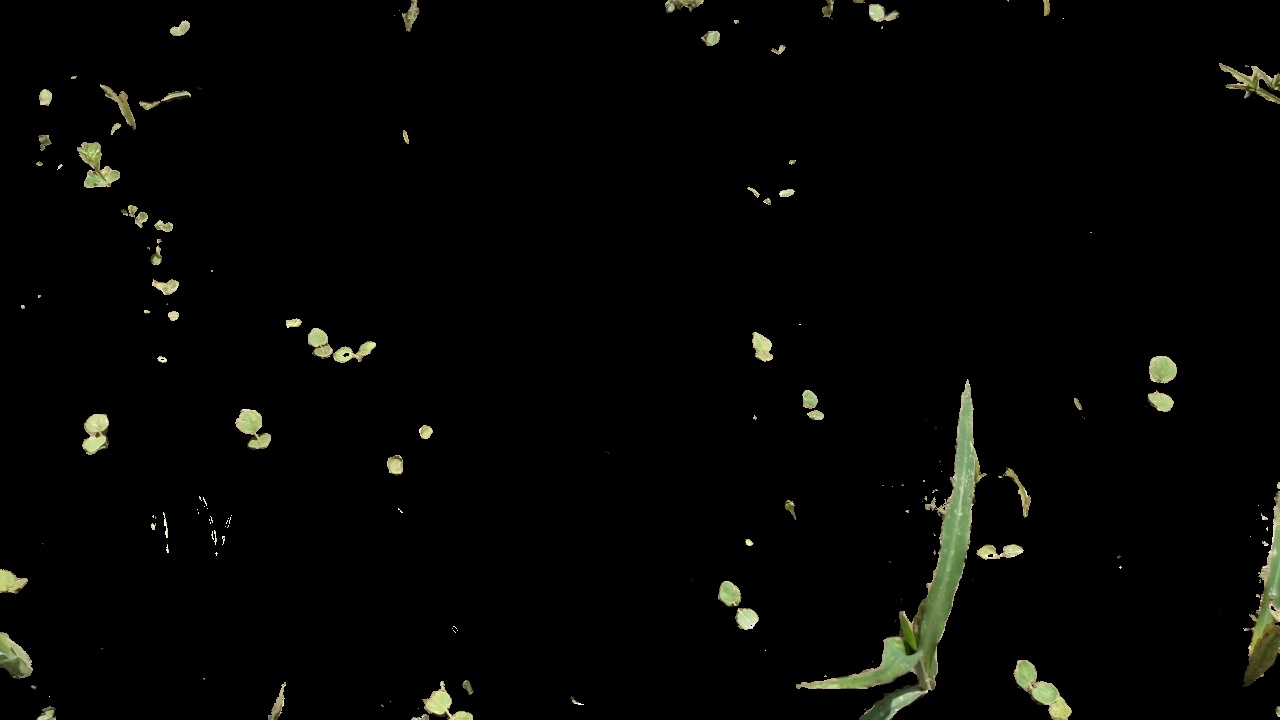crop: (841, 347, 978, 720)
weed: (1004, 653, 1076, 720), (1133, 342, 1188, 421), (301, 322, 390, 363), (72, 146, 137, 195), (1218, 55, 1280, 106), (716, 581, 767, 634), (223, 406, 277, 448), (78, 411, 125, 454), (791, 391, 835, 423), (867, 1, 897, 40), (974, 544, 1030, 561)
